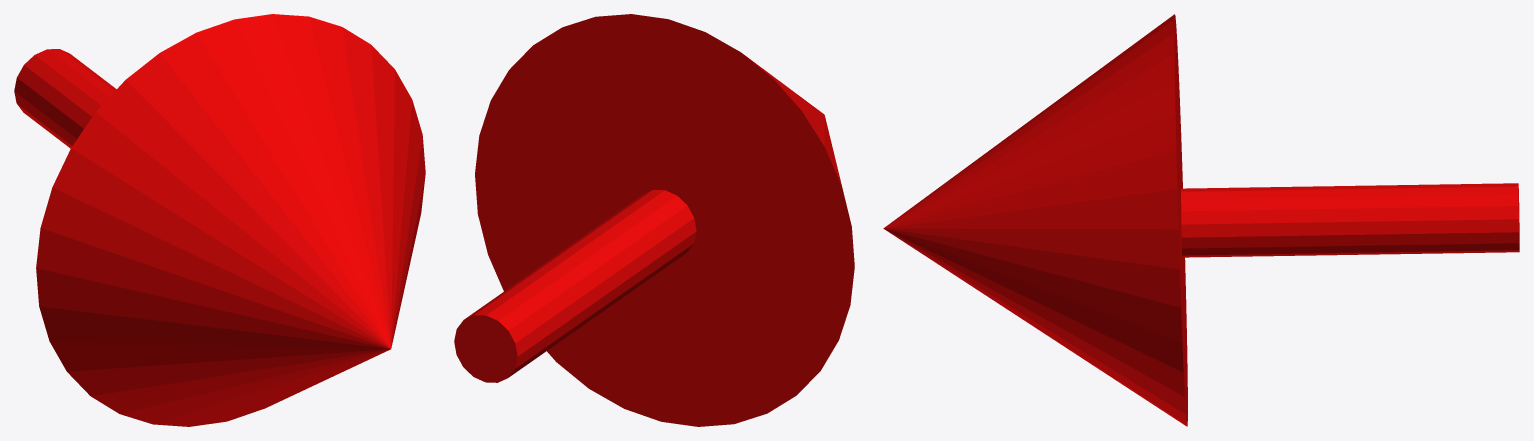
Rendered from arrow2.dae.
3 views of the same model, side by side, from view 1: azimuth 30°, elevation 25°; view 2: azimuth 150°, elevation 25°; view 3: azimuth 270°, elevation 25° (orthographic). The views are drawn at different scales.
Parts seen in each view (by area): view 1: Arrow (×2); view 2: Arrow (×2); view 3: Arrow (×2).
Part boxes in pixels (x1,y1,x2,y2): Arrow (×2): [14, 14, 425, 426]; Arrow (×2): [454, 14, 854, 426]; Arrow (×2): [883, 14, 1519, 426].
Bounding box in the file's own units: 232 × 232 × 357.
